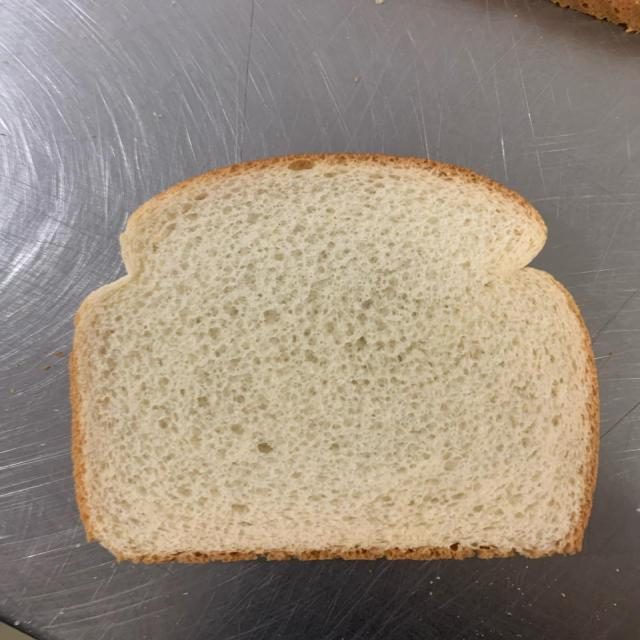sliced_bread: (71, 155, 600, 563)
